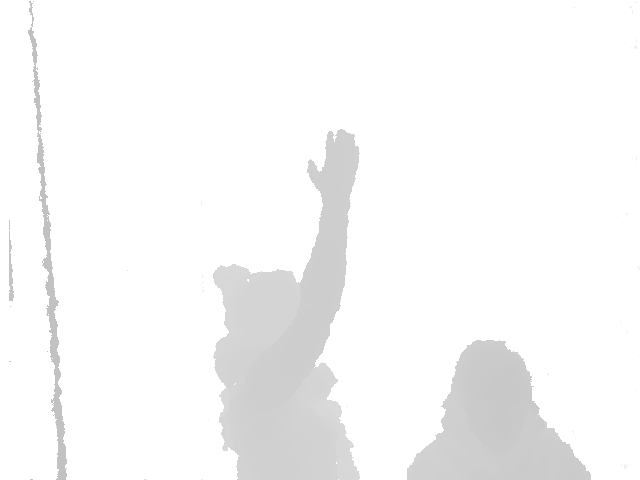hand: (308, 128, 363, 195)
head: (209, 262, 308, 356), (442, 336, 534, 427)
person: (205, 127, 368, 480), (407, 332, 593, 480)
